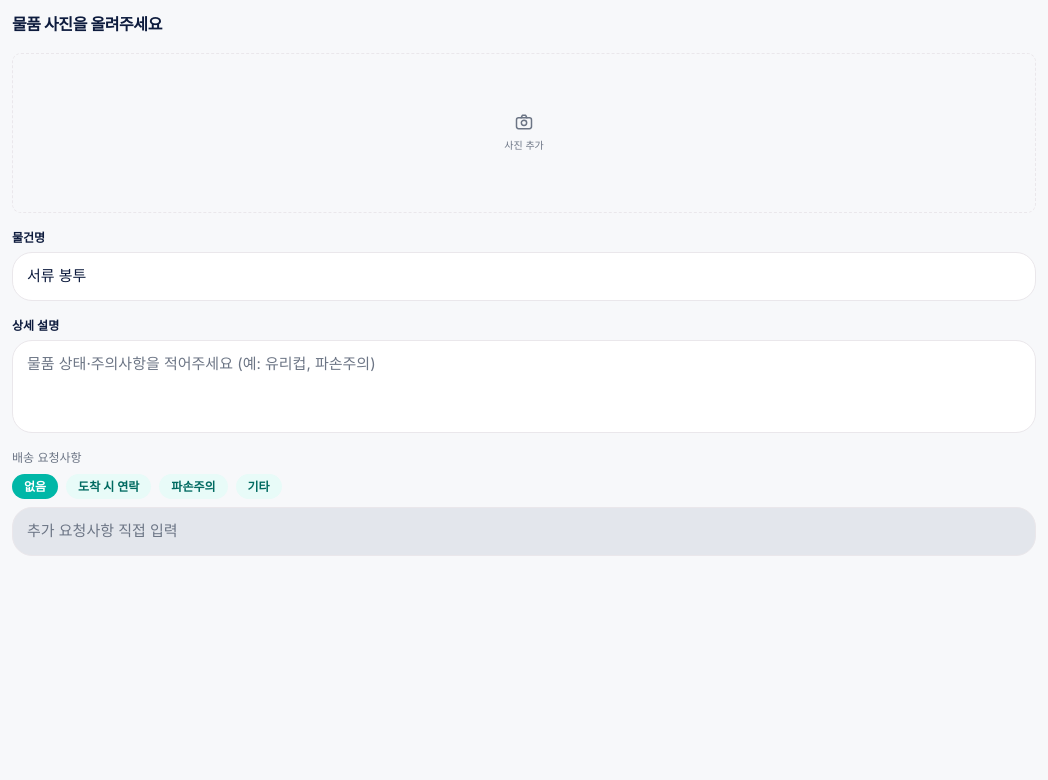
Test case: StepPhoto 배송 요청사항 › "기타"를 선택했을 때만 직접 입력란이 활성화된다
Expected: the field with placeholder "추가 요청사항 직접 입력" is disabled, [27,520,1021,543]
Click the radio button labelled "도착 시 연락".
click(109, 487)  # box [66,474,151,499]
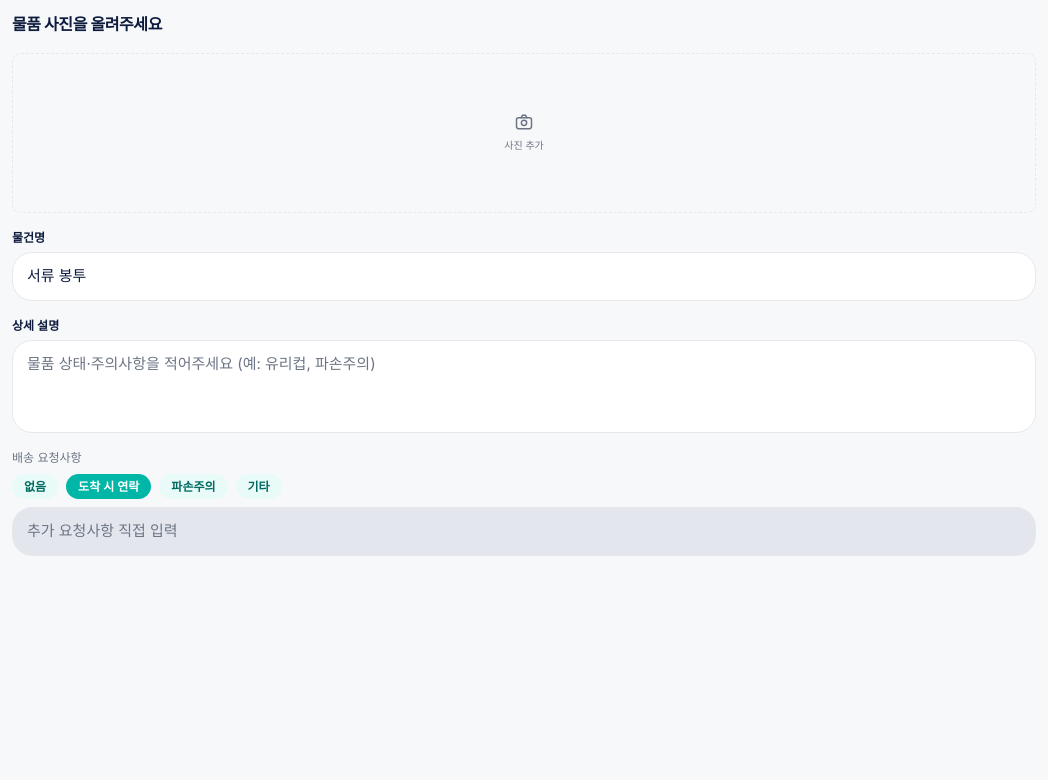
Expected: the field with placeholder "추가 요청사항 직접 입력" is disabled, [27,520,1021,543]
Click the radio button labelled "파손주의".
click(193, 487)  # box [159,474,228,499]
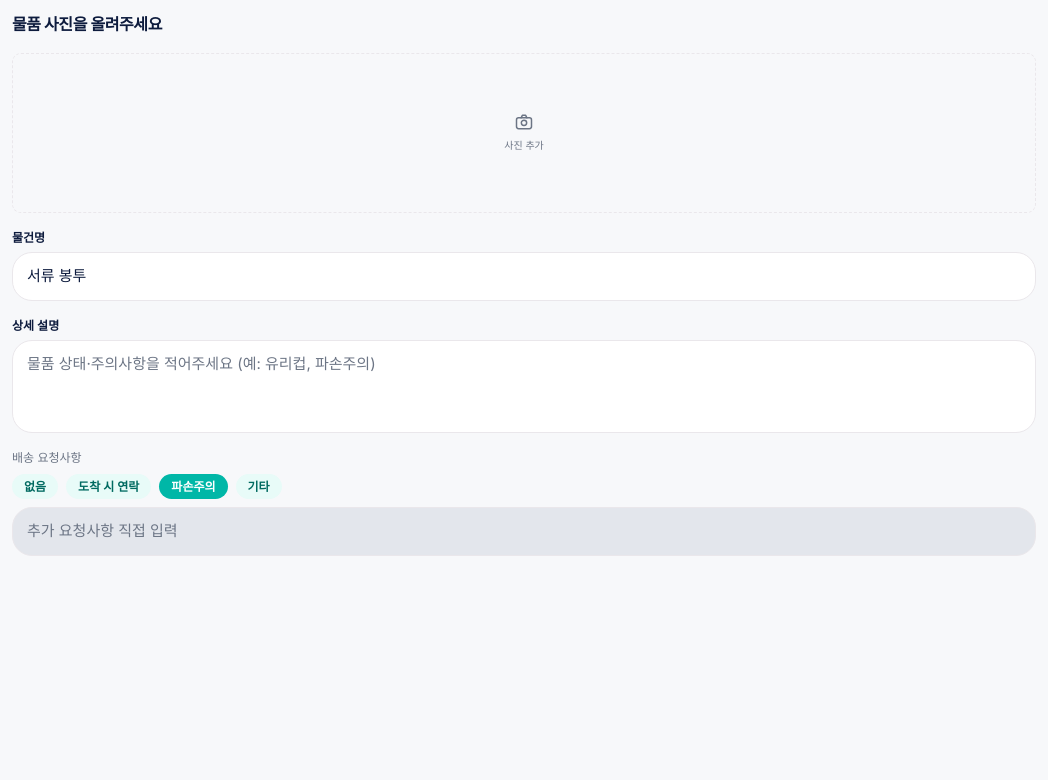
Expected: the field with placeholder "추가 요청사항 직접 입력" is disabled, [27,520,1021,543]
Click the radio button labelled "기타".
click(259, 487)  # box [236,474,282,499]
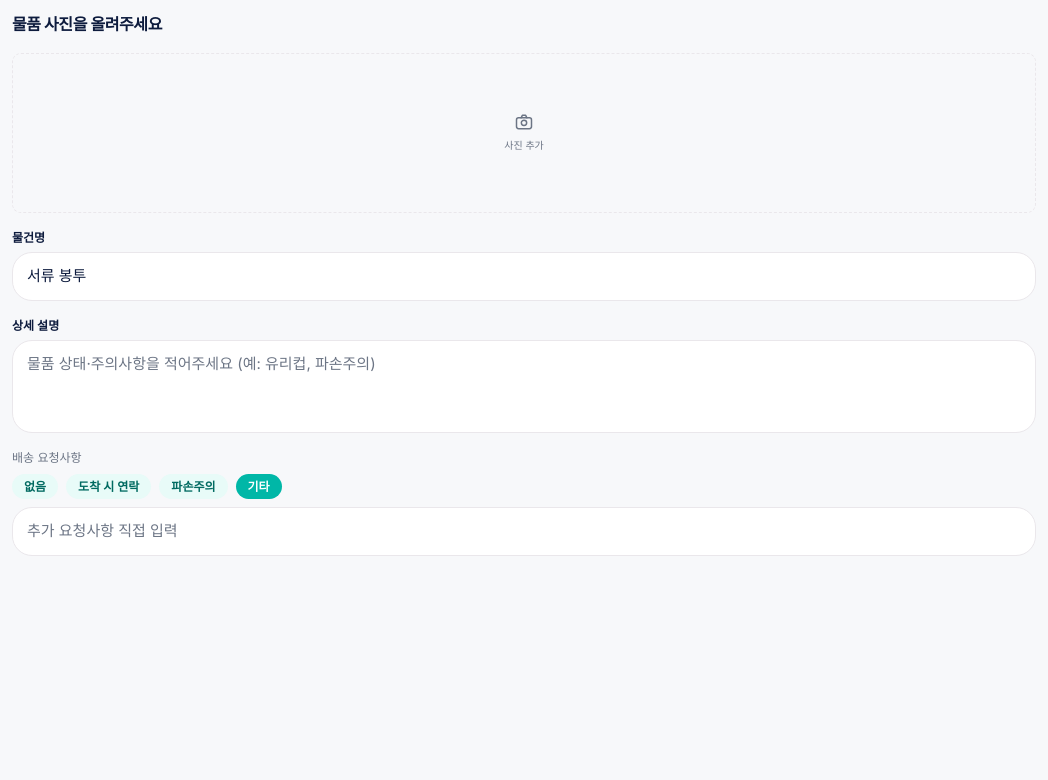
Now the field with placeholder "추가 요청사항 직접 입력" is enabled, box [27,520,1021,543]
